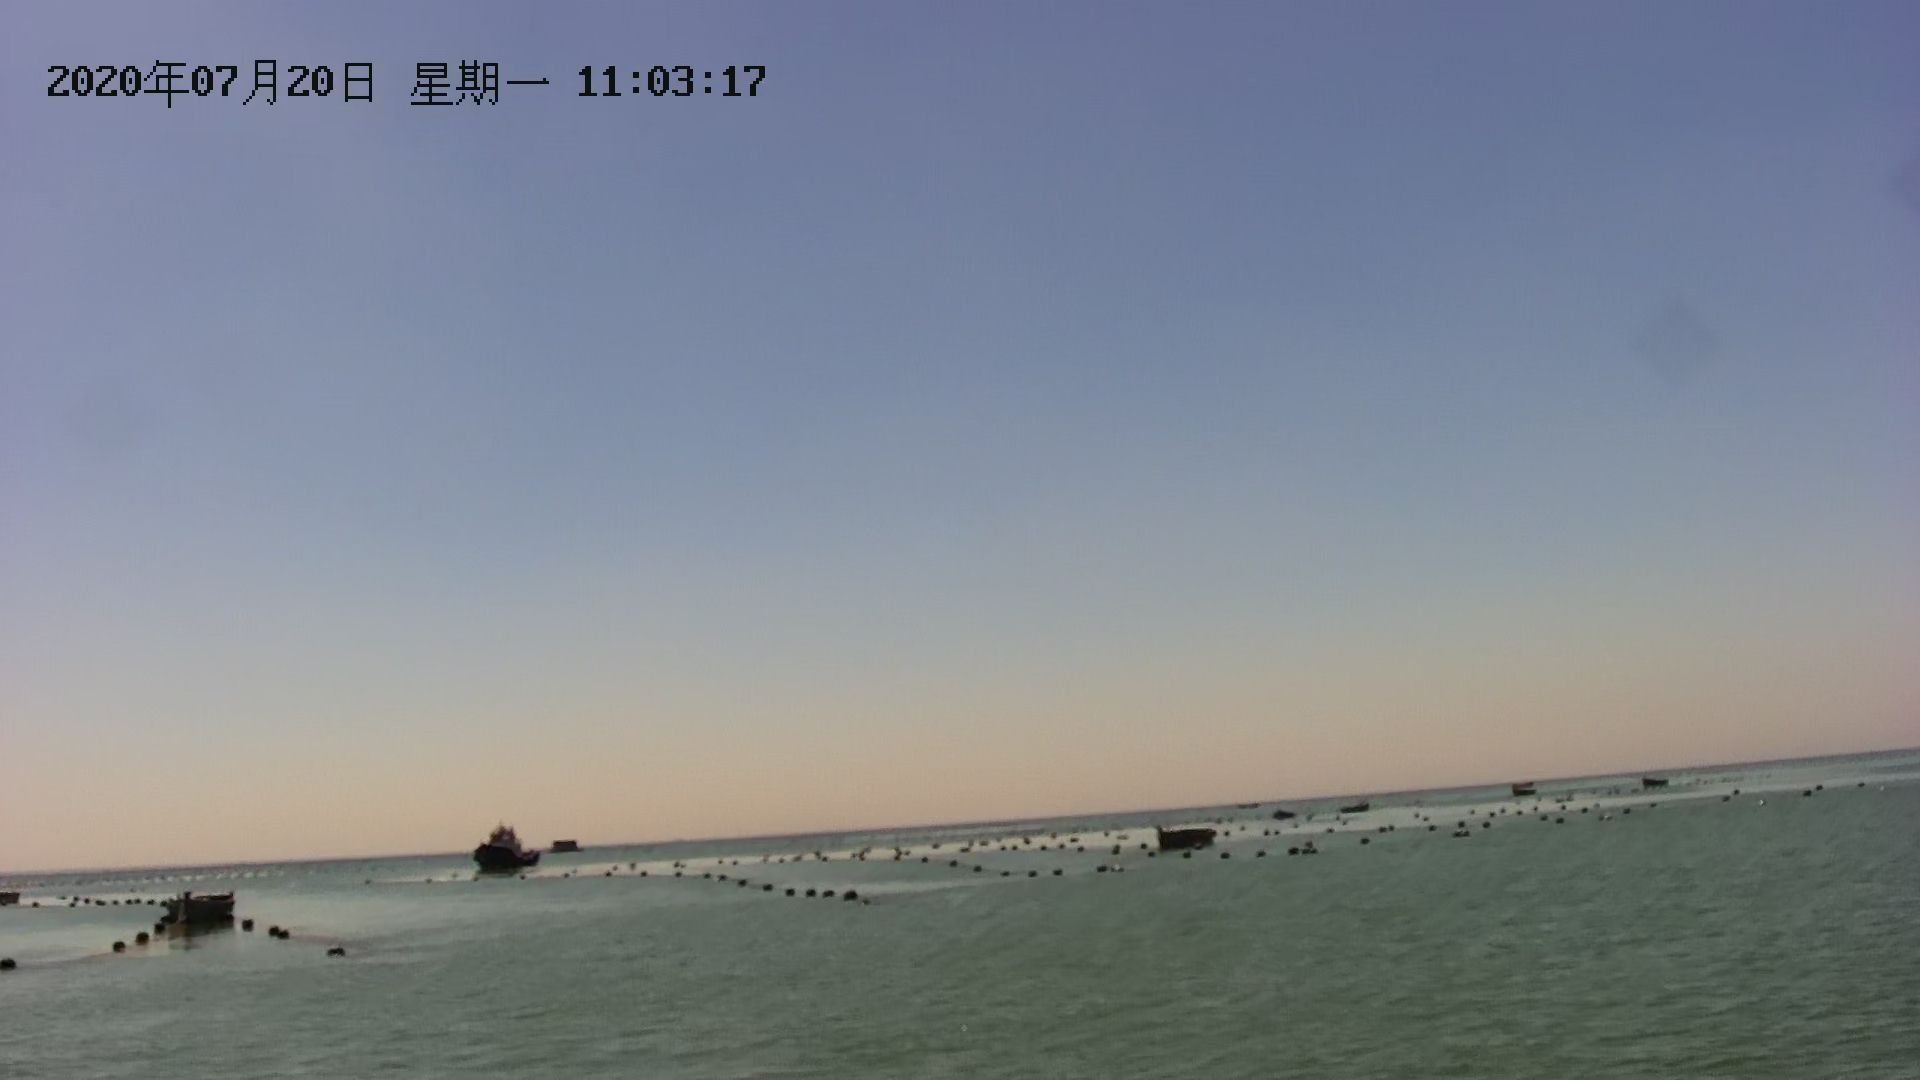ball: (320, 936, 349, 967), (1, 953, 26, 977), (274, 923, 293, 942), (843, 887, 858, 906)
boat: (152, 884, 249, 939), (1149, 818, 1229, 853)
platform: (549, 836, 583, 855)
ship: (473, 823, 545, 884)
